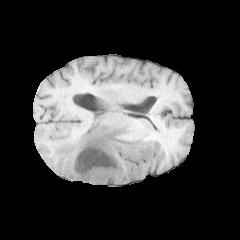glioma: (53, 122, 154, 184)
